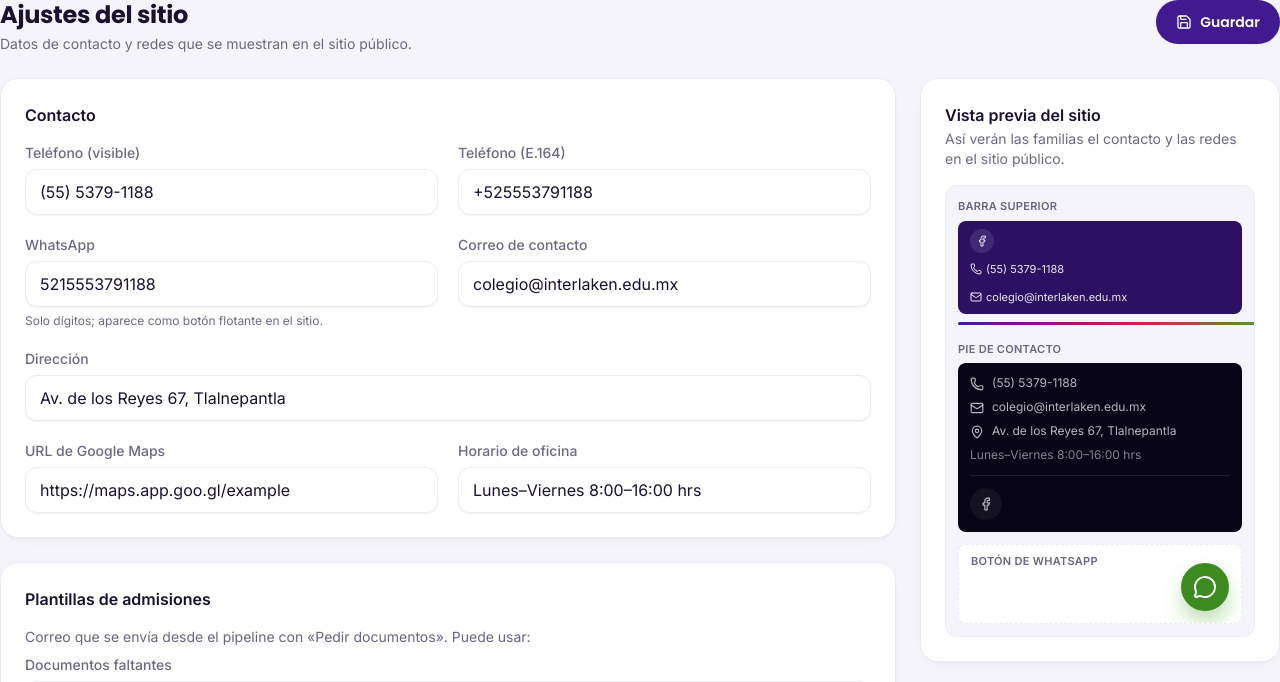
Scenario: AdminSettings (CMS preview + density) › clears a field error when the admin edits that input
This screenshot has width=1280, height=682.
Check: the field labelled "Correo de contacto" holds "colegio@interlaken.edu.mx", box [458,261,871,307]
Click the button "Guardar" at (1218, 22), box [1156,0,1279,44]
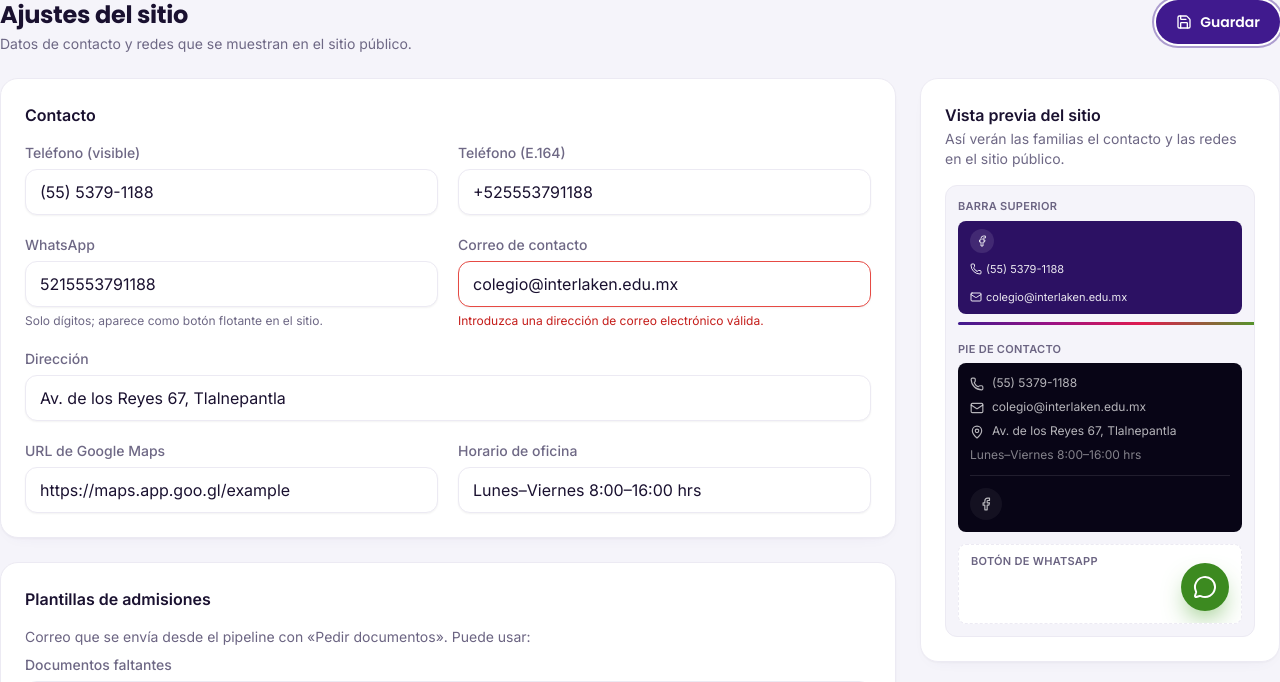
Check: the text "Introduzca una dirección de correo electrónico válida." is shown, box [458,313,764,328]
Type "x" into the field labelled "Correo de contacto" at (664, 284), box [458,261,871,307]
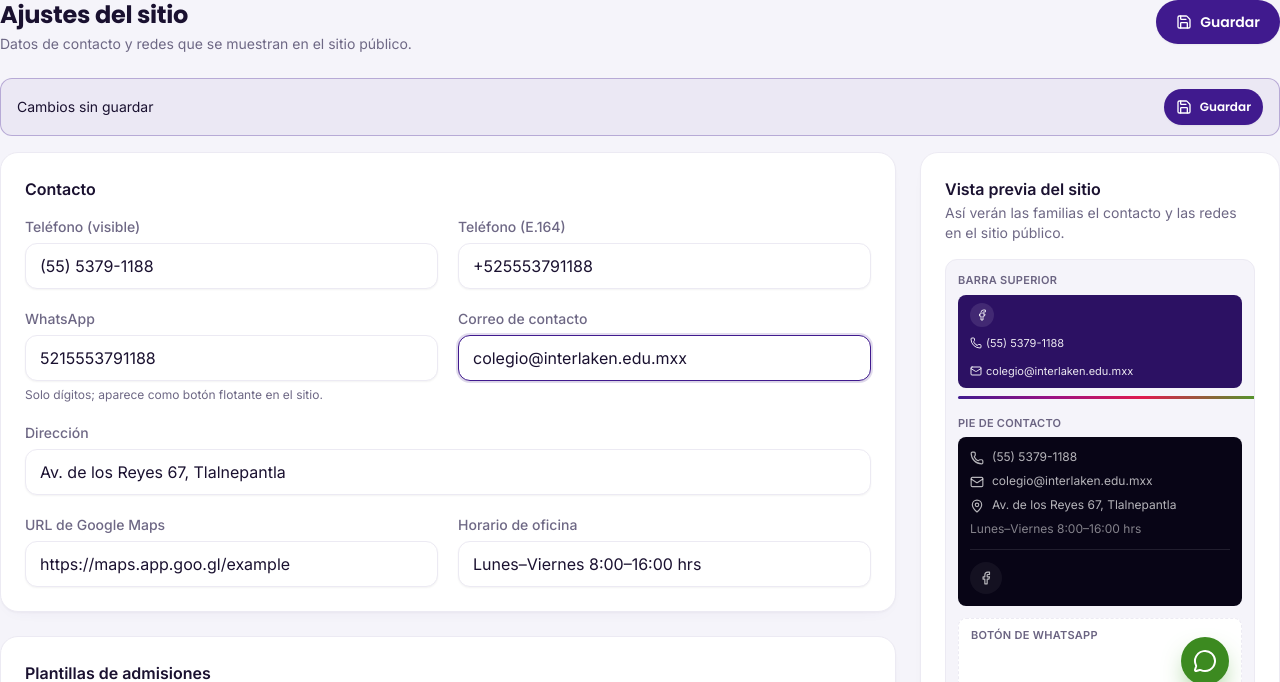
Check: the text "Introduzca una dirección de correo electrónico válida." is gone
